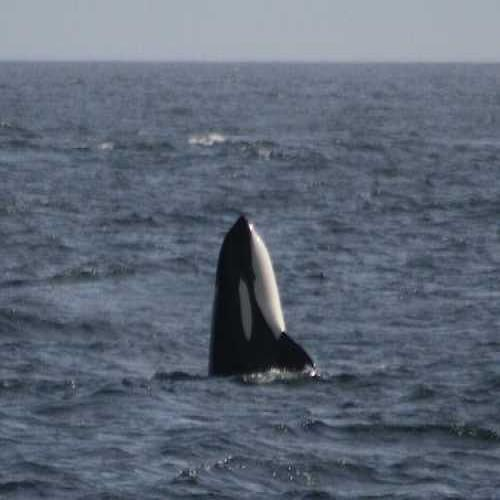killer_whale-endangered: (177, 178, 338, 398)
